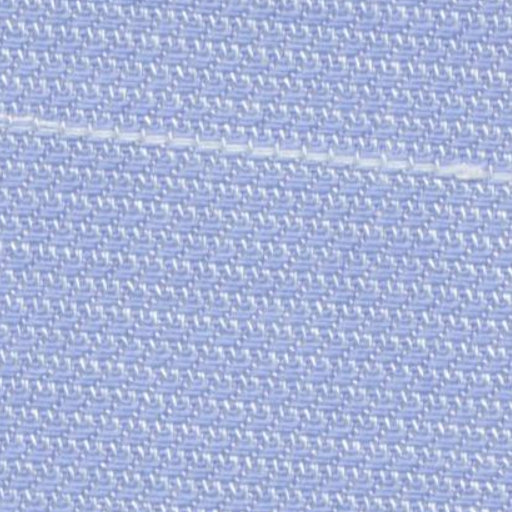TuoSha: (12, 104, 496, 232)
